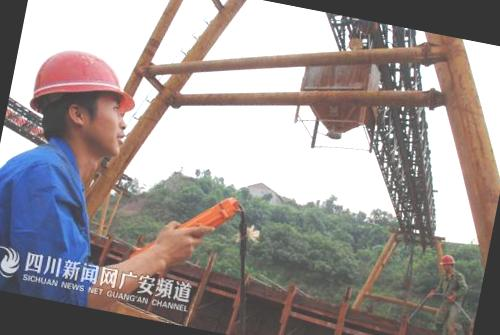person: (0, 37, 238, 326), (417, 249, 481, 335)
